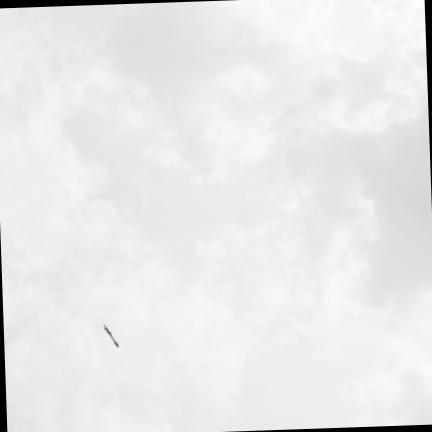Shahed: (104, 325, 119, 346)
